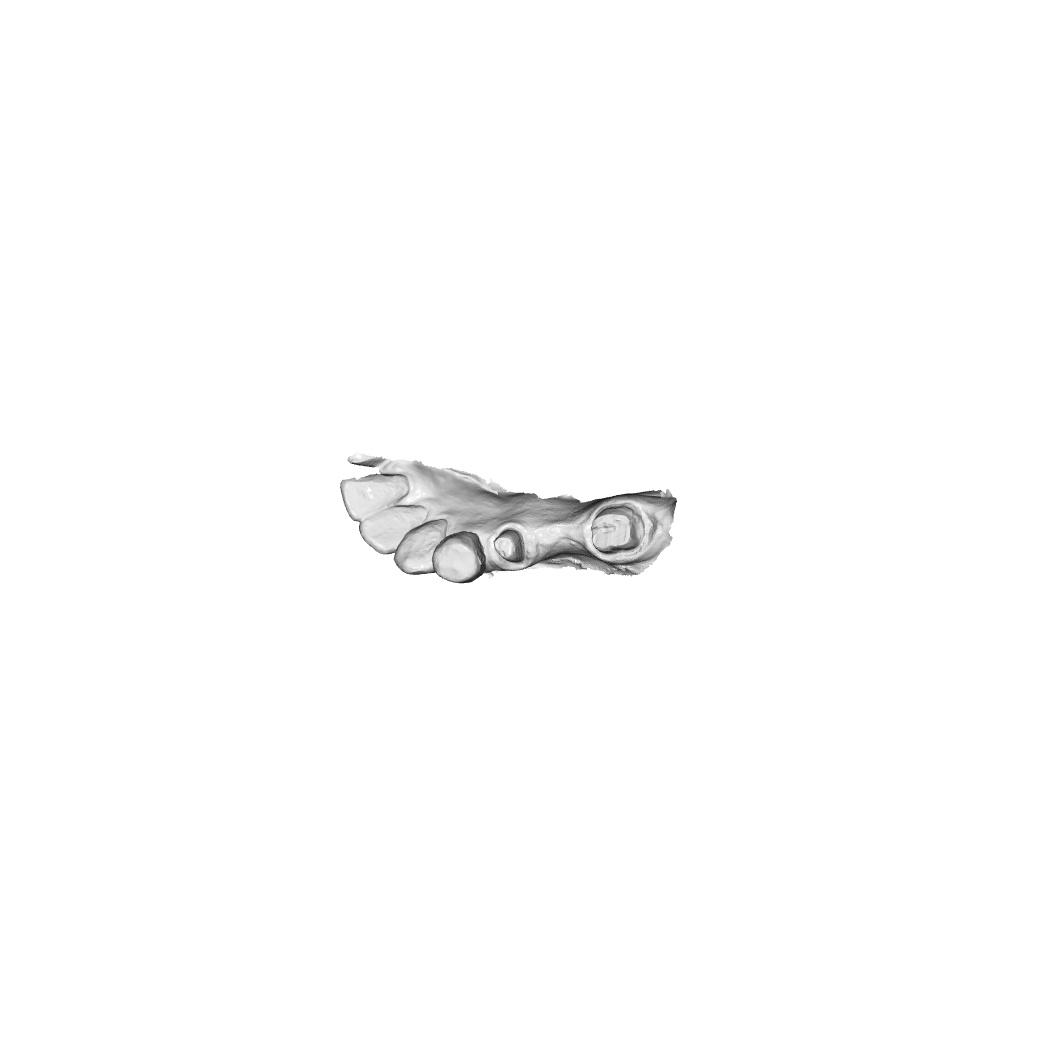canine: (393, 524, 447, 576)
crown: (588, 502, 647, 556), (491, 526, 527, 564)
incisor: (339, 473, 410, 521), (359, 505, 425, 555)
premolar: (432, 531, 487, 584)
